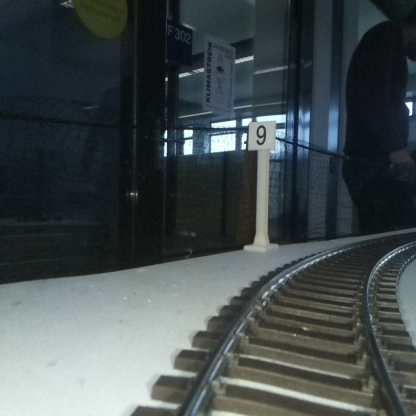white-info-9: (248, 123, 274, 250)
